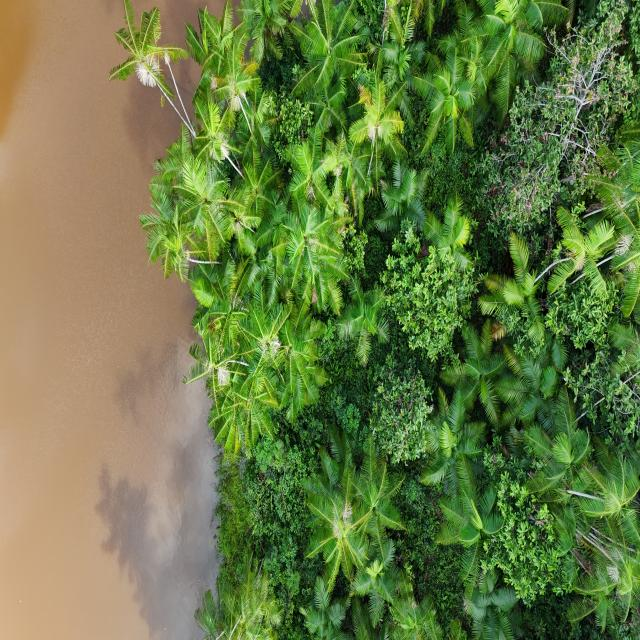vegetation: (108, 1, 638, 638)
